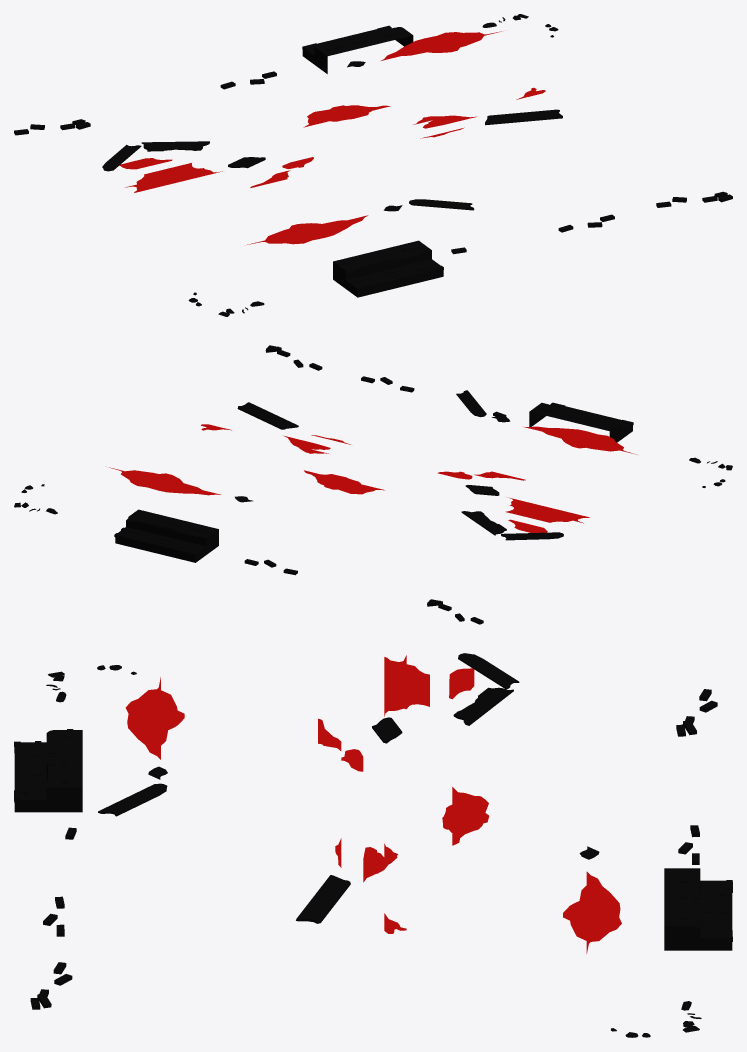
The model's file is Miscellaneous_NoScale.fbx.
The picture shows the model from 3 angles, top to bottom: view 1: azimuth 30°, elevation 25°; view 2: azimuth 150°, elevation 25°; view 3: azimuth 270°, elevation 25°; orthographic projection. The views are drawn at different scales.
Visible parts, largest first — view 1: SM_ST_Office01.mo; view 2: SM_ST_Office01.mo; view 3: SM_ST_Office01.mo.
Part boxes in pixels (<box>): SM_ST_Office01.mo: <box>14,14,732,316</box>; SM_ST_Office01.mo: <box>14,345,732,624</box>; SM_ST_Office01.mo: <box>14,653,732,1037</box>.
Bounding box in the file's own units: 1293 × 1054 × 68.86.
